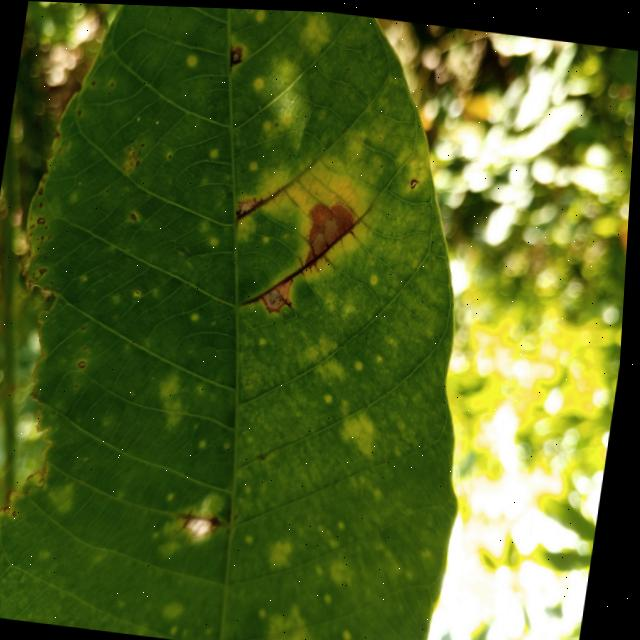Colletotrichum: (410, 176, 420, 185), (38, 216, 48, 225), (41, 267, 50, 275), (81, 359, 88, 367), (131, 212, 139, 219), (232, 52, 238, 59), (137, 159, 141, 164), (49, 234, 54, 238)
Corynespora: (242, 207, 359, 319), (236, 181, 287, 224), (284, 295, 298, 309)
Leaf-Blight: (304, 196, 359, 267), (261, 273, 294, 312)
